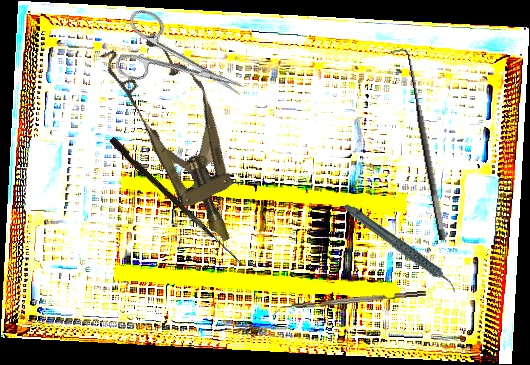Chopper: (271, 290, 427, 317)
Handpiece: (342, 184, 458, 313)
Hook Surgical: (106, 136, 249, 266), (389, 46, 450, 244)
Iris Scissors: (106, 5, 257, 125)
Speculum: (98, 22, 265, 258)
